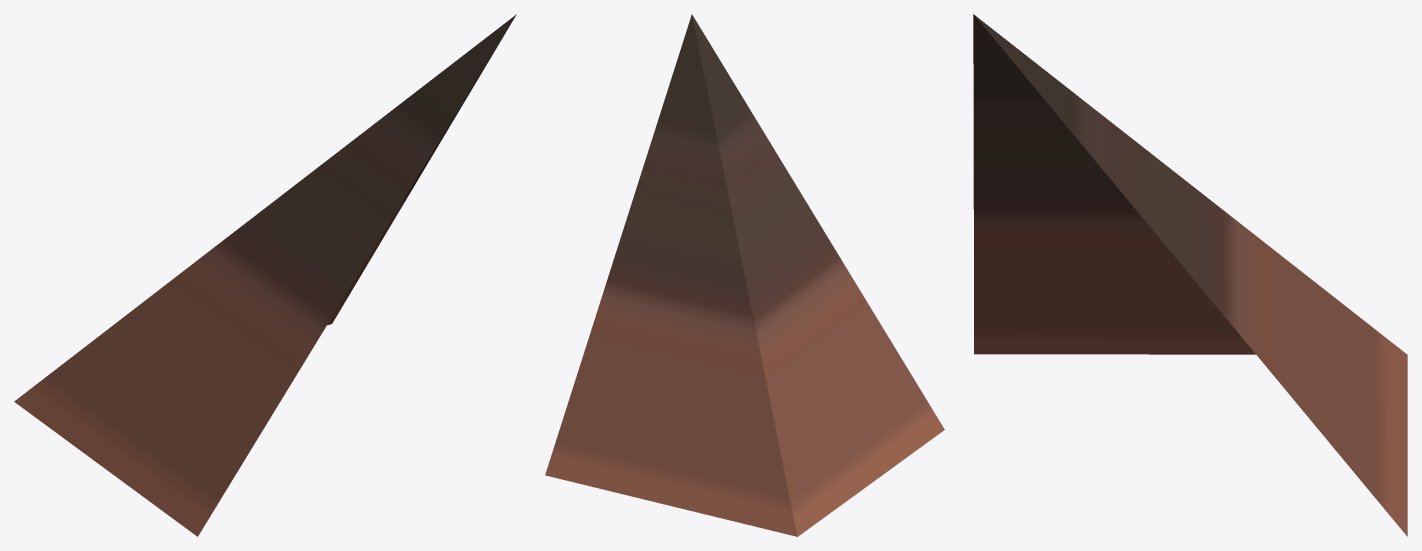
The model's file is Steeple_Roof_Corner_Base.fbx.
3 views of the same model, side by side, from view 1: azimuth 30°, elevation 25°; view 2: azimuth 150°, elevation 25°; view 3: azimuth 270°, elevation 25° (orthographic). The views are drawn at different scales.
Parts seen in each view (by area): view 1: polySurface5310; view 2: polySurface5310; view 3: polySurface5310.
Boxes of the visible parts, x1,y1,x2,y2 form: polySurface5310: (14,14,516,536); polySurface5310: (545,14,944,536); polySurface5310: (973,14,1407,536).
Bounding box in the file's own units: 201 × 268 × 202.
